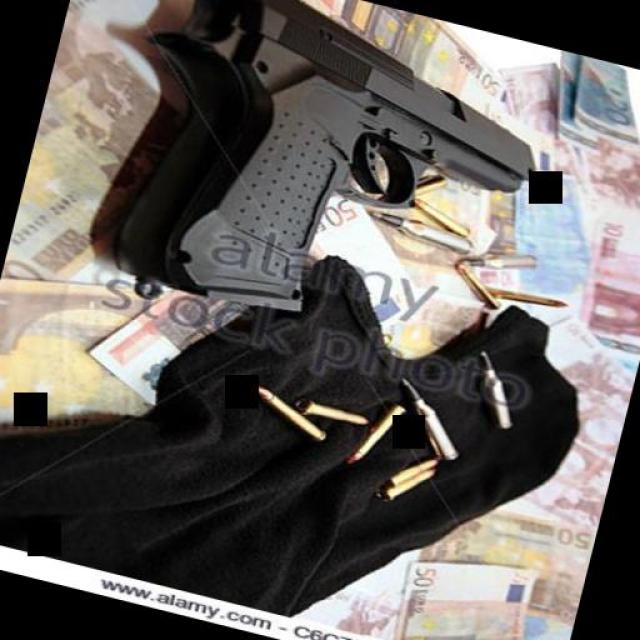gun: (82, 0, 568, 369)
